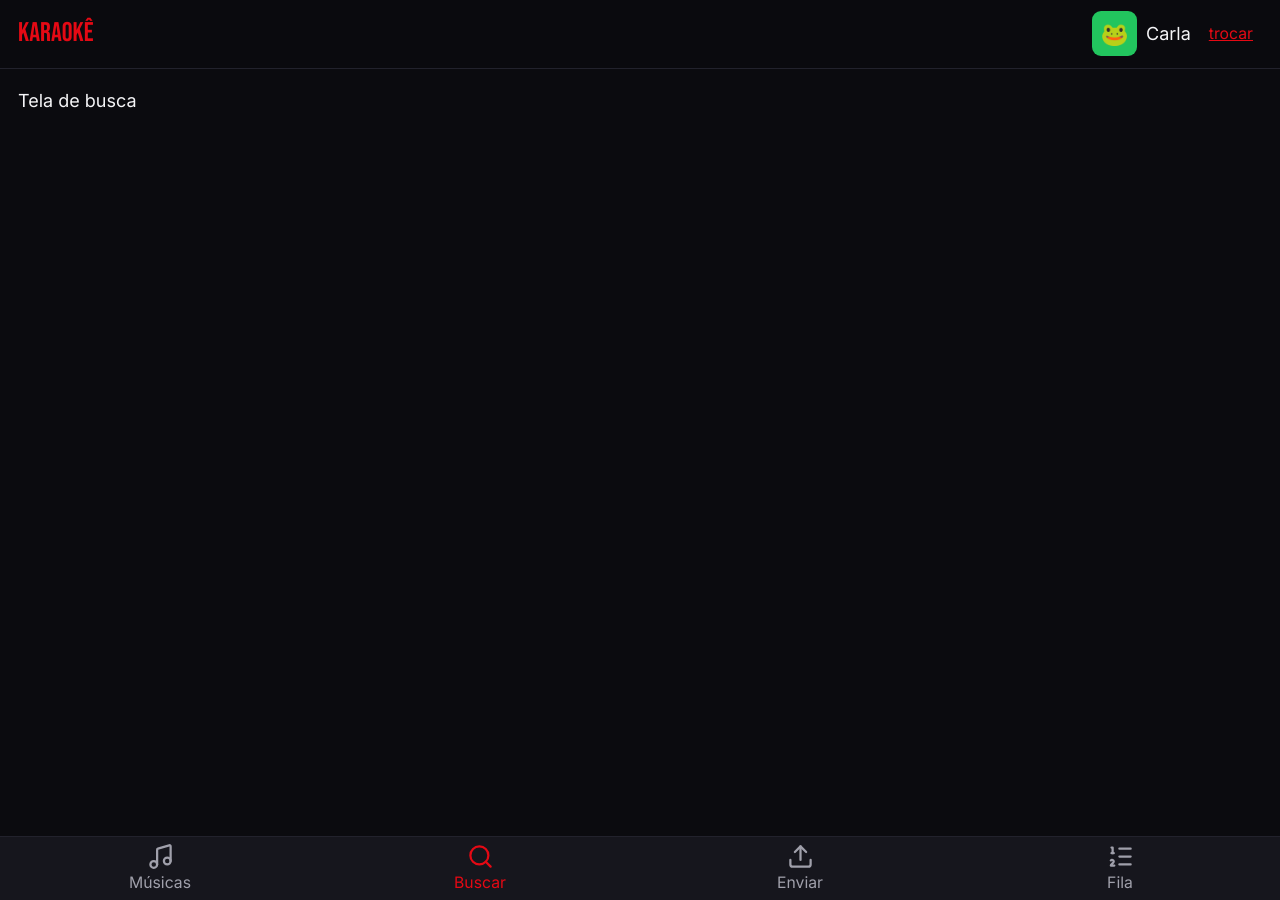
Test: MobileLayout › keeps the last search in the search tab, so going to the queue and back does not lose it
Click the link "Fila" at (1120, 867), box [1106,843,1134,892]
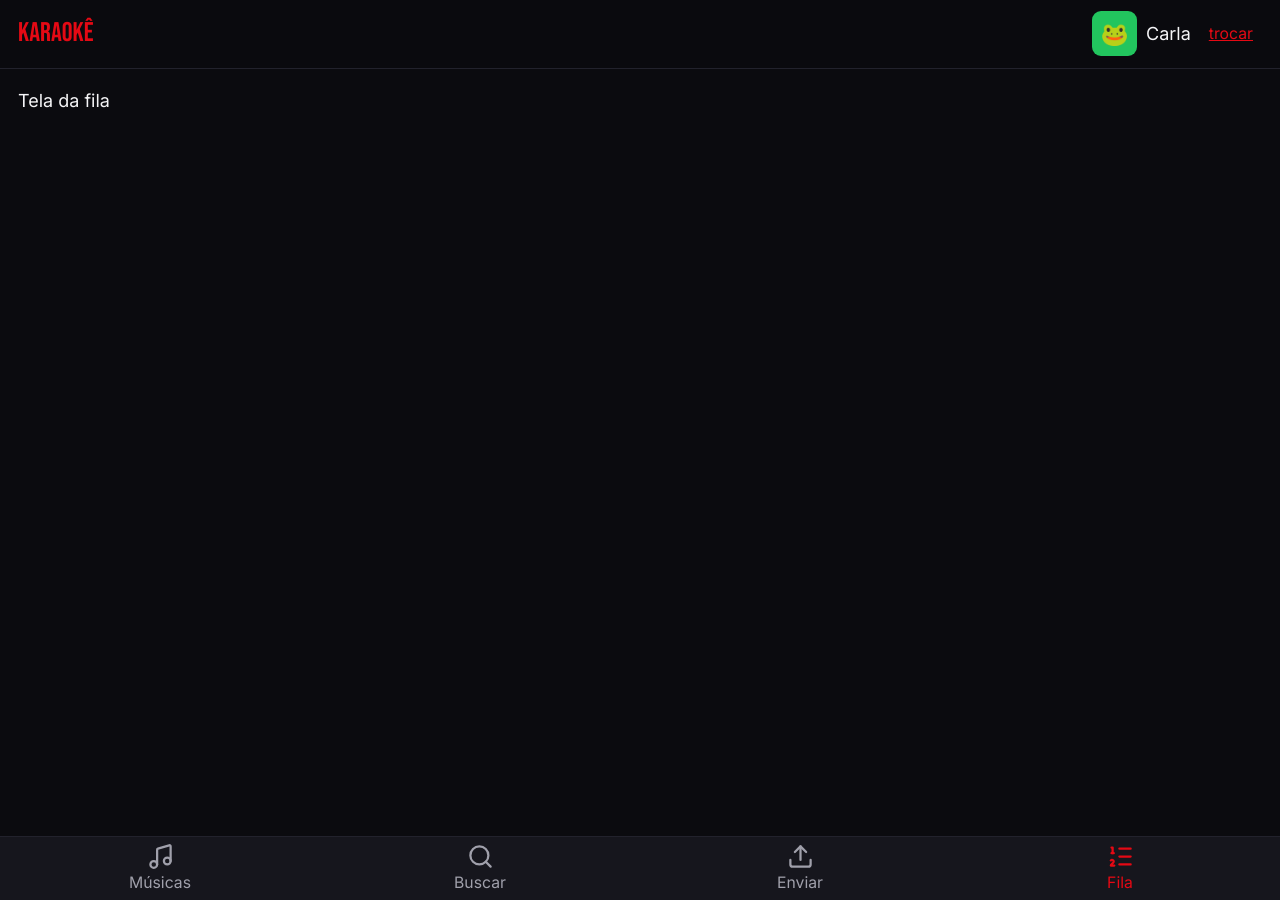
Result: the text "Tela da fila" is shown at [18,90,110,110]
